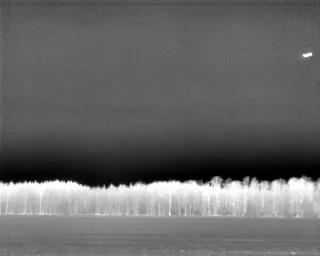DRONE: (298, 48, 317, 63)
